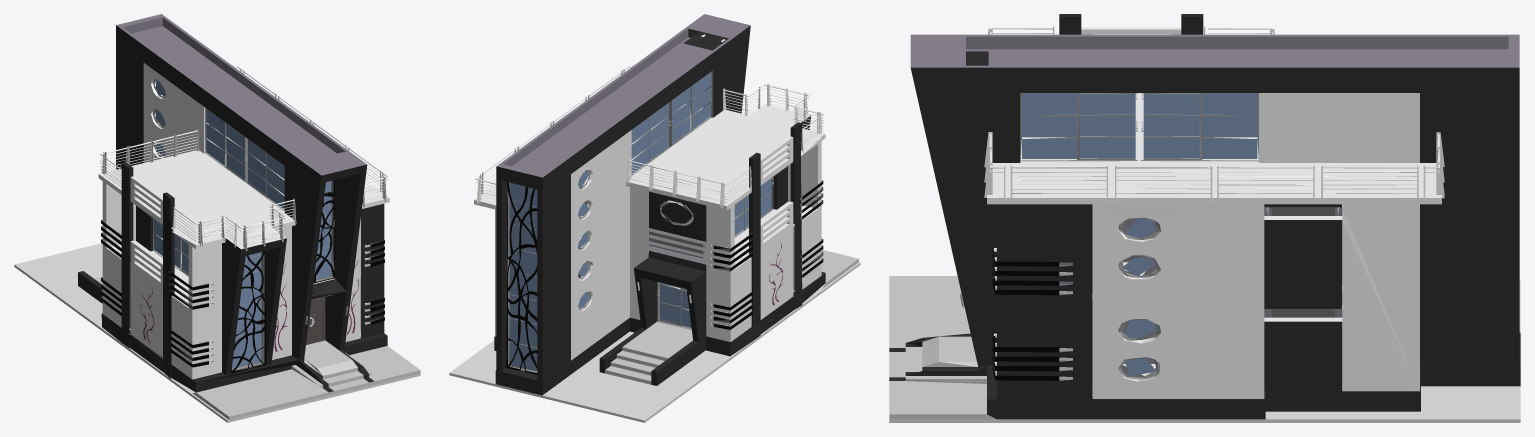
File: house-5marla.glb
3 renders of one model, left to right at view 1: azimuth 30°, elevation 25°; view 2: azimuth 150°, elevation 25°; view 3: azimuth 270°, elevation 25°, orthographic. The views are drawn at different scales.
Visible parts, largest first — view 1: Modern House_0; view 2: Modern House_0; view 3: Modern House_0.
Boxes of the visible parts, x1,y1,x2,y2 form: Modern House_0: (14,14,420,422); Modern House_0: (449,14,860,422); Modern House_0: (889,14,1520,422).
Size of the model in its own units: 8.5 by 9 by 16.
3 materials, 3 textured.
